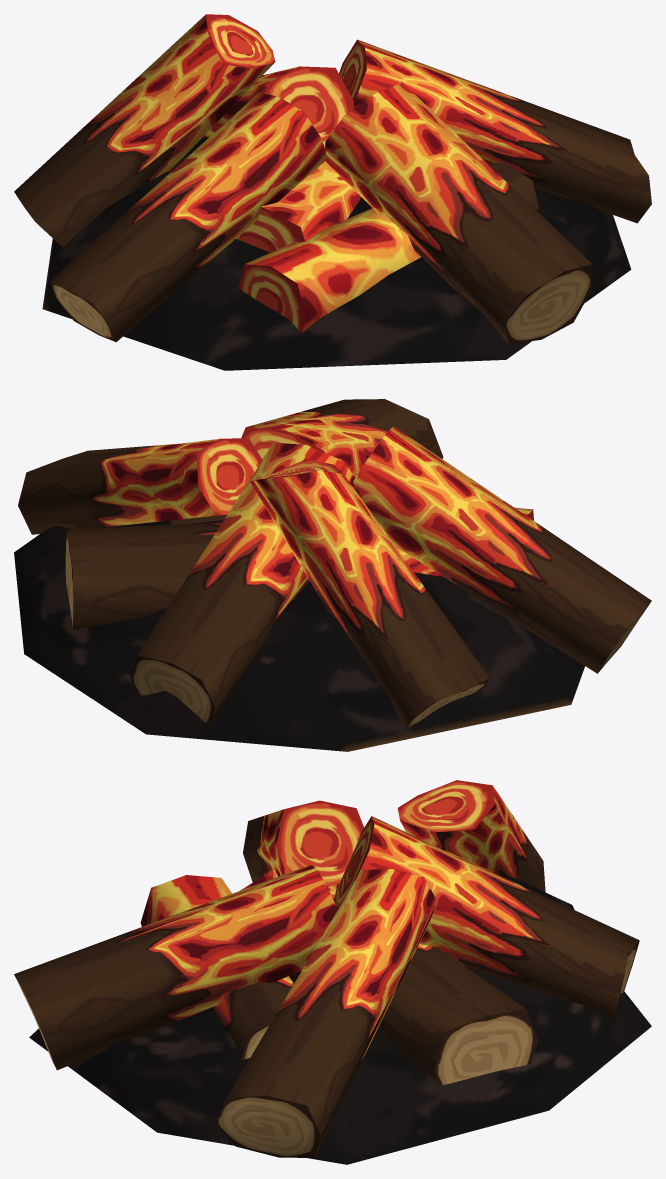
Rendered from SM_PROP_woodlogs_interior.fbx.
3 views of the same model, one above another, from view 1: azimuth 30°, elevation 25°; view 2: azimuth 150°, elevation 25°; view 3: azimuth 270°, elevation 25° (orthographic). The views are drawn at different scales.
Visible parts, largest first — view 1: SM_PROP_woodlogs_interior; view 2: SM_PROP_woodlogs_interior; view 3: SM_PROP_woodlogs_interior.
Boxes of the visible parts, box(x1,y1,x2,y2) form: SM_PROP_woodlogs_interior: box(14, 14, 651, 370); SM_PROP_woodlogs_interior: box(14, 399, 651, 751); SM_PROP_woodlogs_interior: box(14, 780, 651, 1164).
Size of the model in its own units: 69.91 by 23.69 by 63.91.
